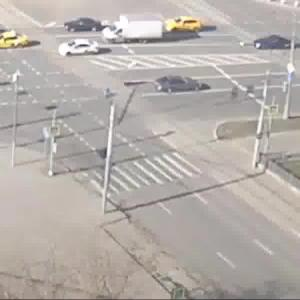car: (47, 38, 107, 63), (155, 77, 221, 99), (109, 21, 161, 45), (62, 14, 104, 38), (252, 33, 294, 57), (1, 30, 39, 52), (168, 21, 200, 36)
